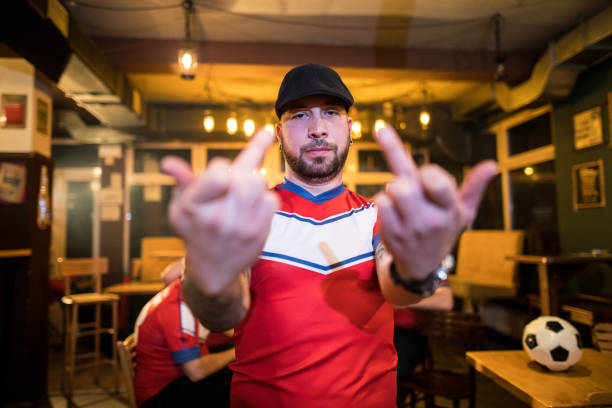insulting_gesture: (160, 129, 278, 277), (374, 129, 499, 268)
